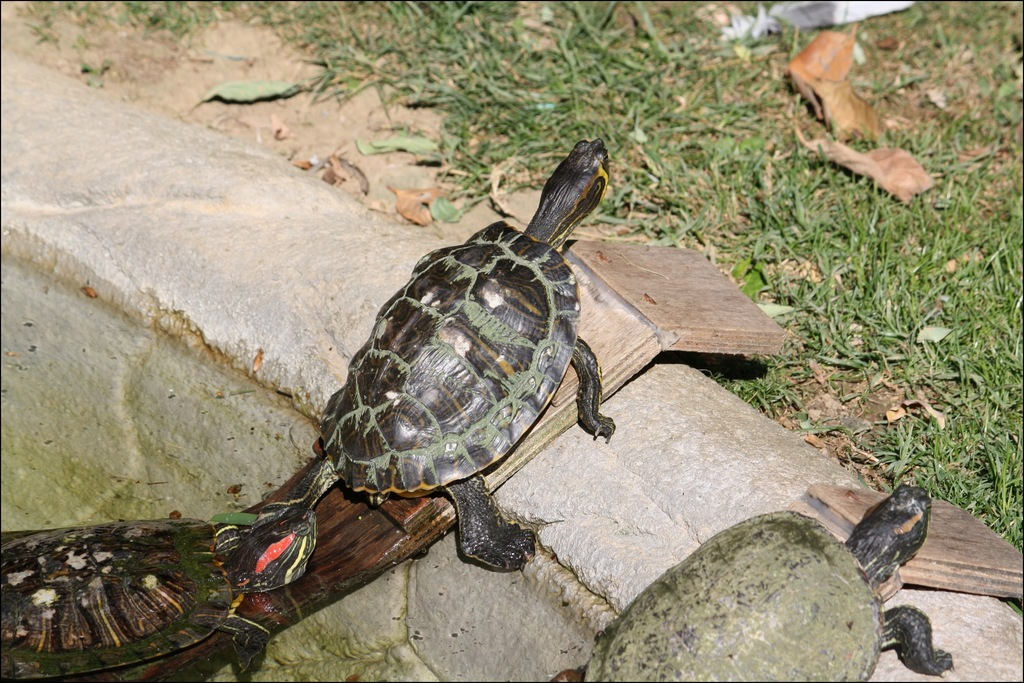Sea turtles: (255, 135, 618, 571), (549, 477, 958, 682), (0, 510, 320, 682)
